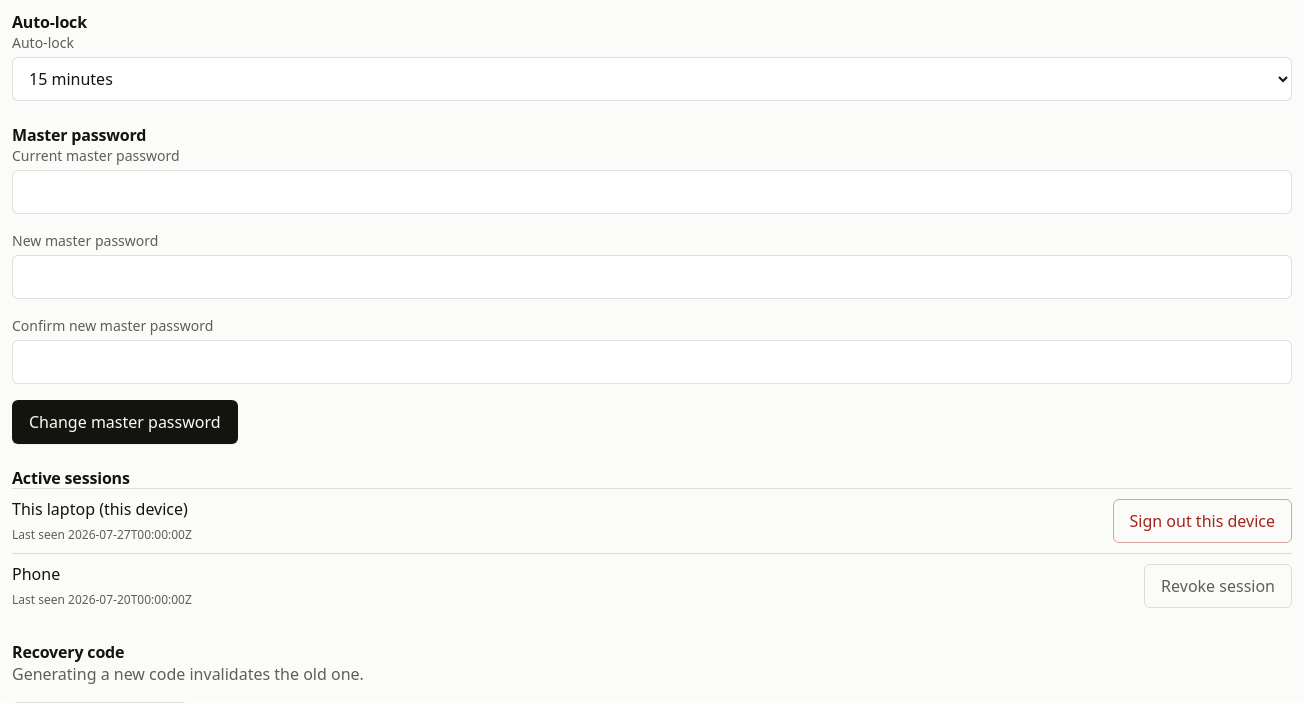
Test: SettingsScreen master password › reports an unreachable server as a connection problem, never as a password problem
The image size is (1304, 703).
In the password field labelled "Current master password": (652, 192) [12, 170, 1292, 214], type "old-password"
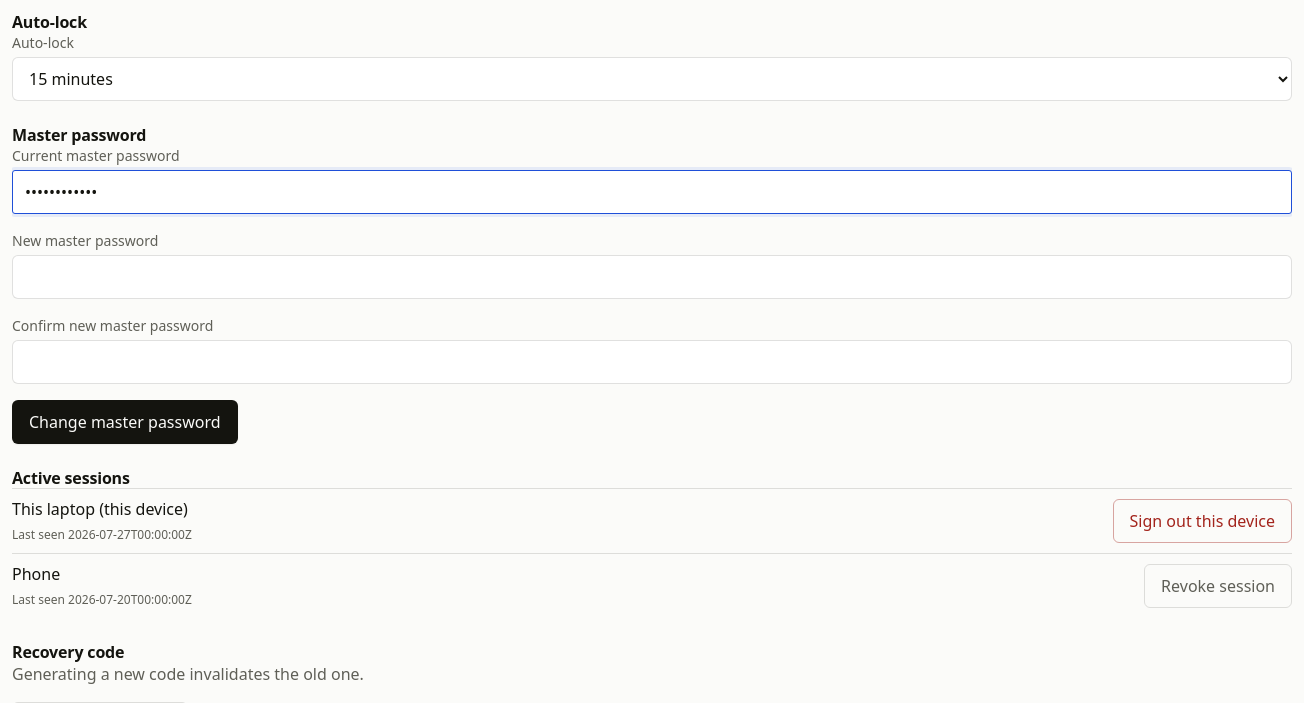
In the password field labelled "New master password": (652, 277) [12, 255, 1292, 299], type "new-password"
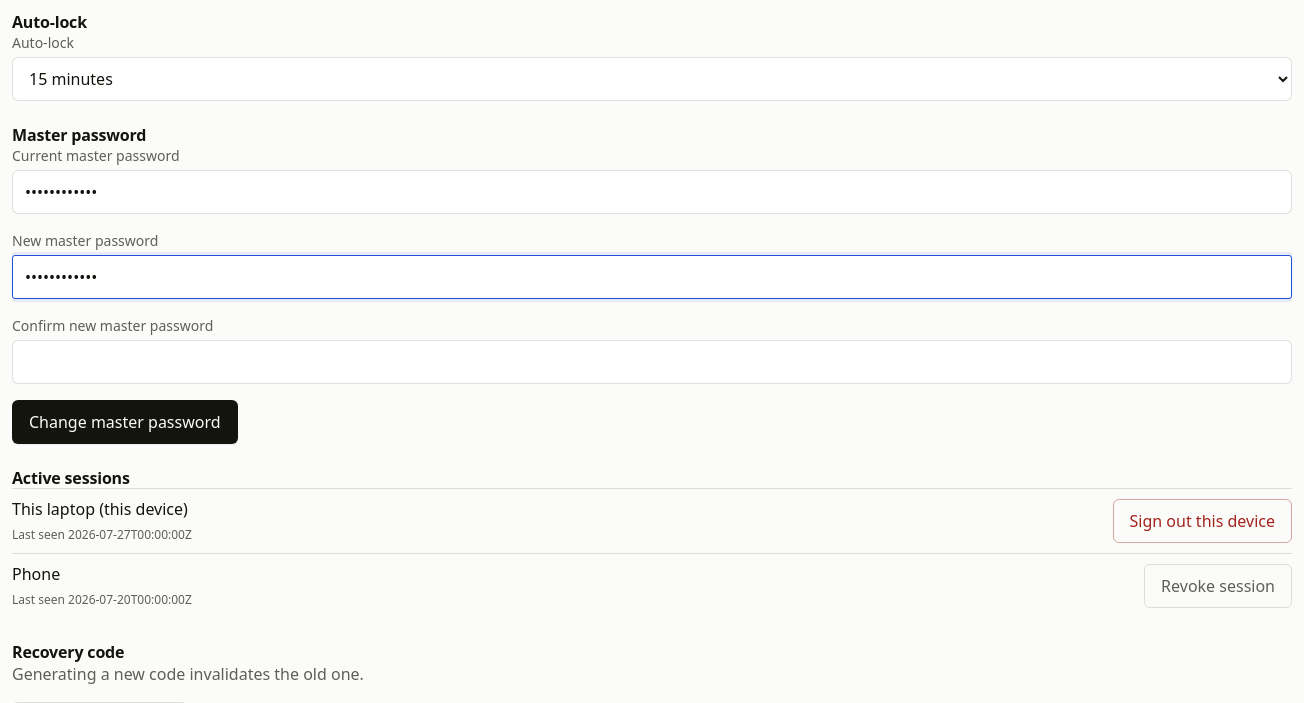
In the password field labelled "Confirm new master password": (652, 362) [12, 340, 1292, 384], type "new-password"
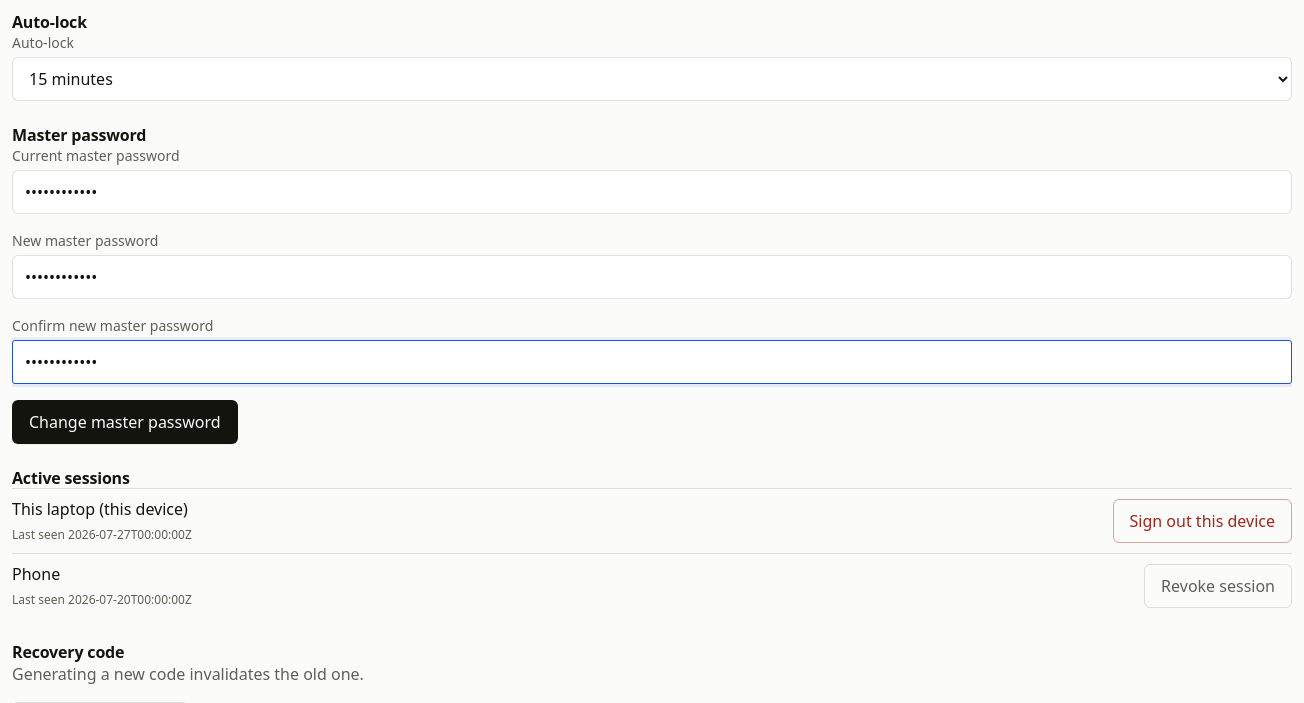
Click the button "Change master password": (125, 422) [12, 400, 238, 444]
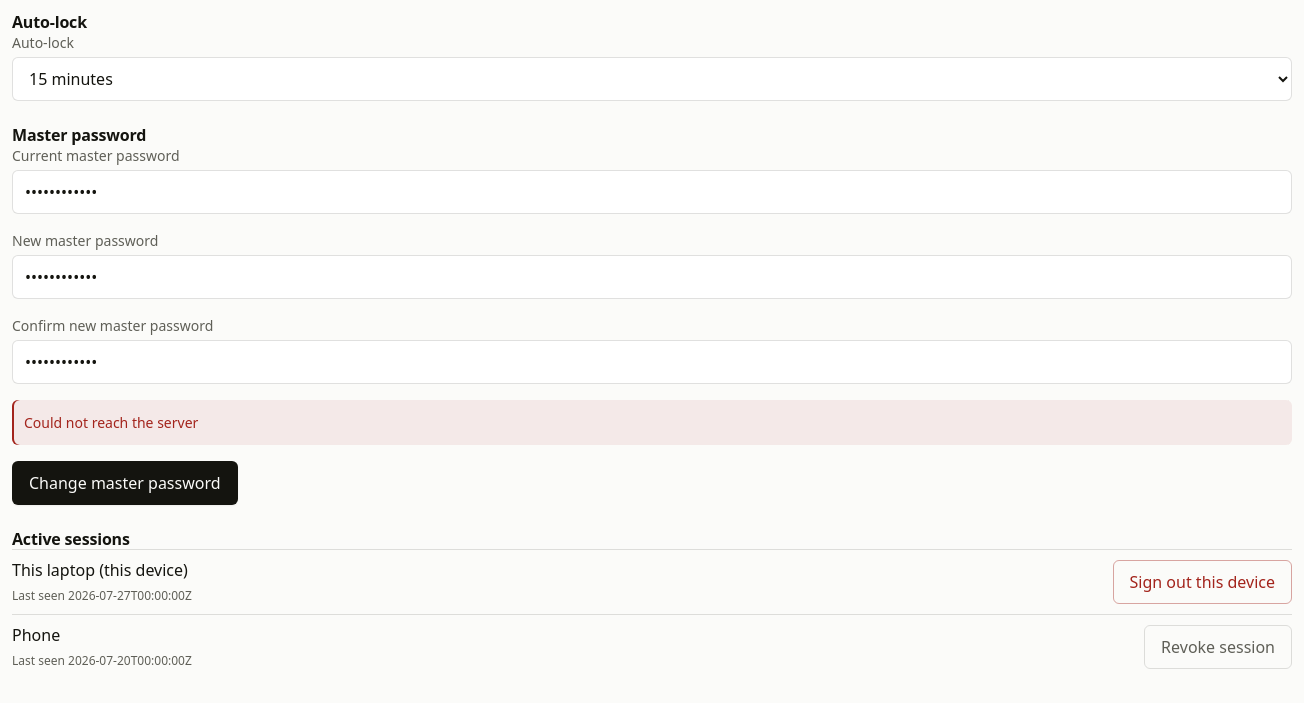
Expected: the message does not show "password", [12, 400, 1292, 445]
Now the message shows "Could not reach", box [24, 413, 198, 432]
